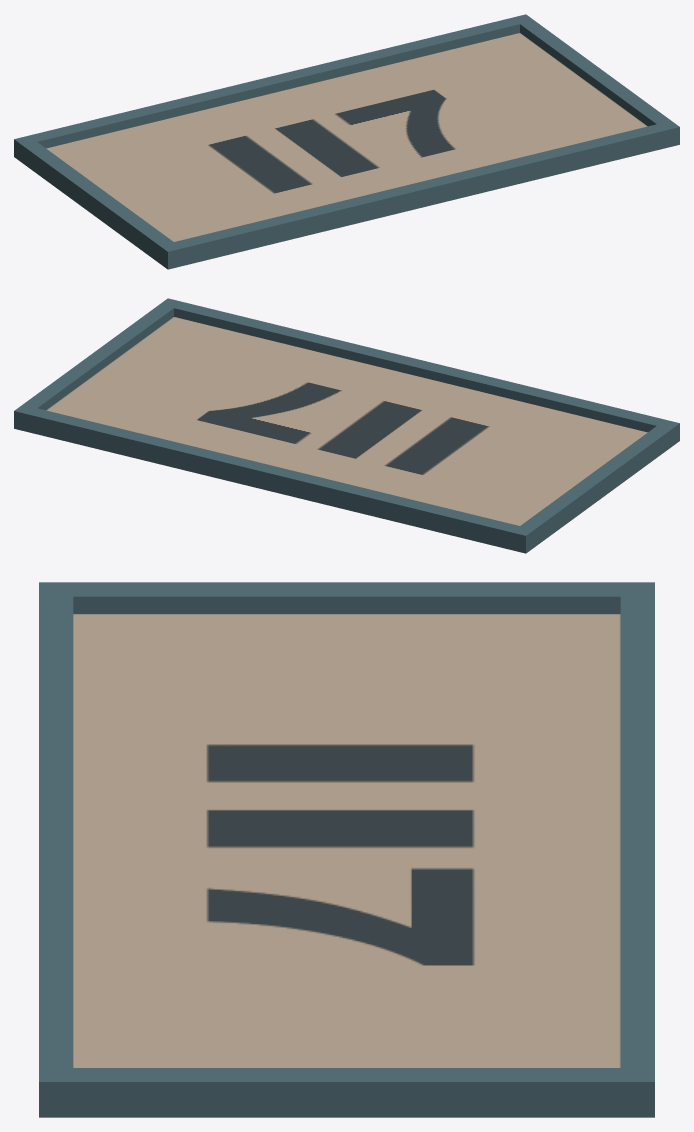
The model's file is Sign_II7.glb.
3 renders of one model, top to bottom at view 1: azimuth 30°, elevation 25°; view 2: azimuth 150°, elevation 25°; view 3: azimuth 270°, elevation 25°, orthographic. The views are drawn at different scales.
Parts seen in each view (by area): view 1: II7; view 2: II7; view 3: II7.
Boxes of the visible parts, <box> form: II7: <box>14,14,679,269</box>; II7: <box>14,298,679,553</box>; II7: <box>39,582,654,1117</box>.
Bounding box in the file's own units: 3.84 × 0.1273 × 2.
1 material, 1 textured.
